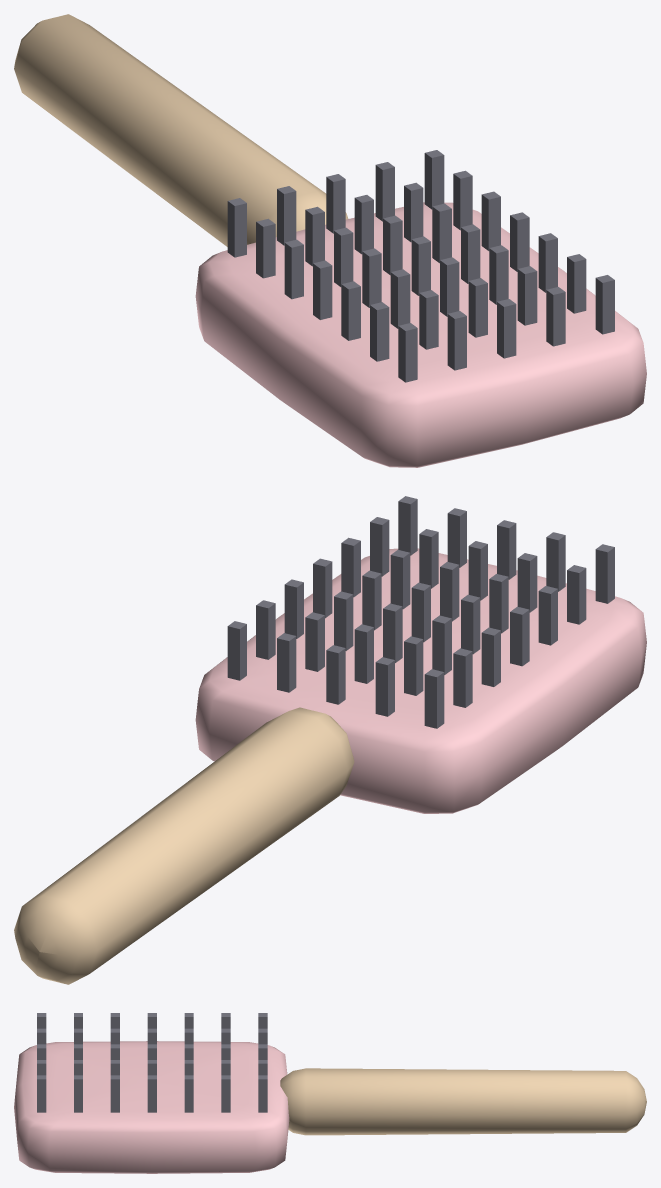
File: companion-animals-and-pet-home-brush-f8269bc9__20667.glb
3 renders of one model, top to bottom at view 1: azimuth 30°, elevation 25°; view 2: azimuth 150°, elevation 25°; view 3: azimuth 270°, elevation 25°, orthographic. The views are drawn at different scales.
Parts seen in each view (by area): view 1: brush; view 2: brush; view 3: brush.
Part boxes in pixels (bbox=[...]): brush: bbox=[14, 14, 646, 467]; brush: bbox=[14, 496, 646, 984]; brush: bbox=[14, 1013, 646, 1173].
Size of the model in its own units: 0.07 by 0.032 by 0.206.
